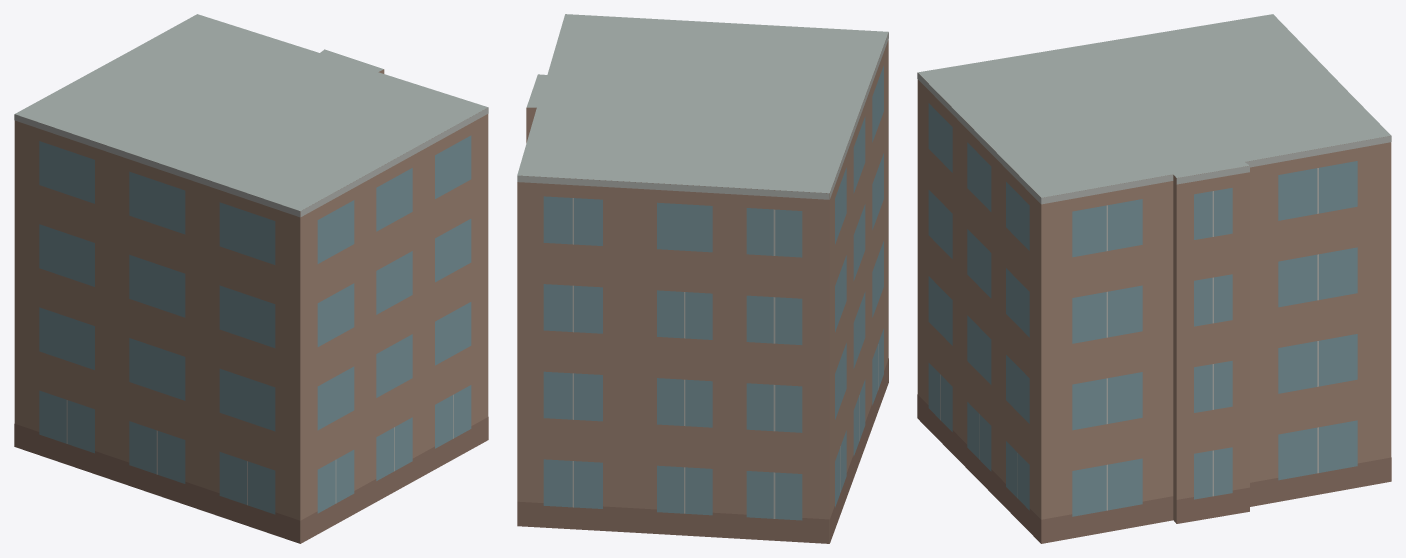
The model's file is survey-upis-33015368.glb.
3 renders of one model, left to right at view 1: azimuth 30°, elevation 25°; view 2: azimuth 150°, elevation 25°; view 3: azimuth 270°, elevation 25°, orthographic. The views are drawn at different scales.
Visible parts, largest first — view 1: survey-upis-33015368.tmp; view 2: survey-upis-33015368.tmp; view 3: survey-upis-33015368.tmp.
Boxes of the visible parts, x1,y1,x2,y2 form: survey-upis-33015368.tmp: (14,14,488,543); survey-upis-33015368.tmp: (517,14,888,543); survey-upis-33015368.tmp: (917,14,1391,543).
Size of the model in its own units: 14.83 by 13 by 16.15.
